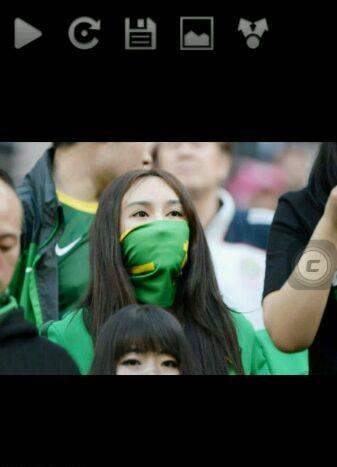NONE: (163, 138, 221, 190)
OK: (122, 199, 191, 268)
